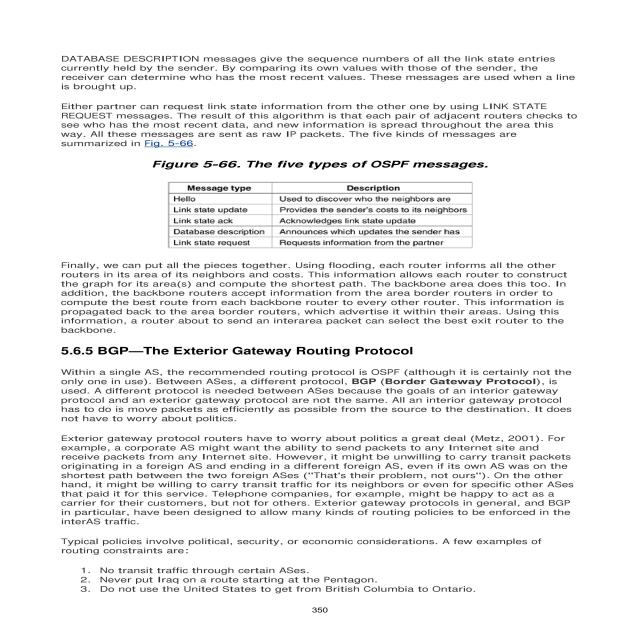diagram: (129, 157, 565, 256)
